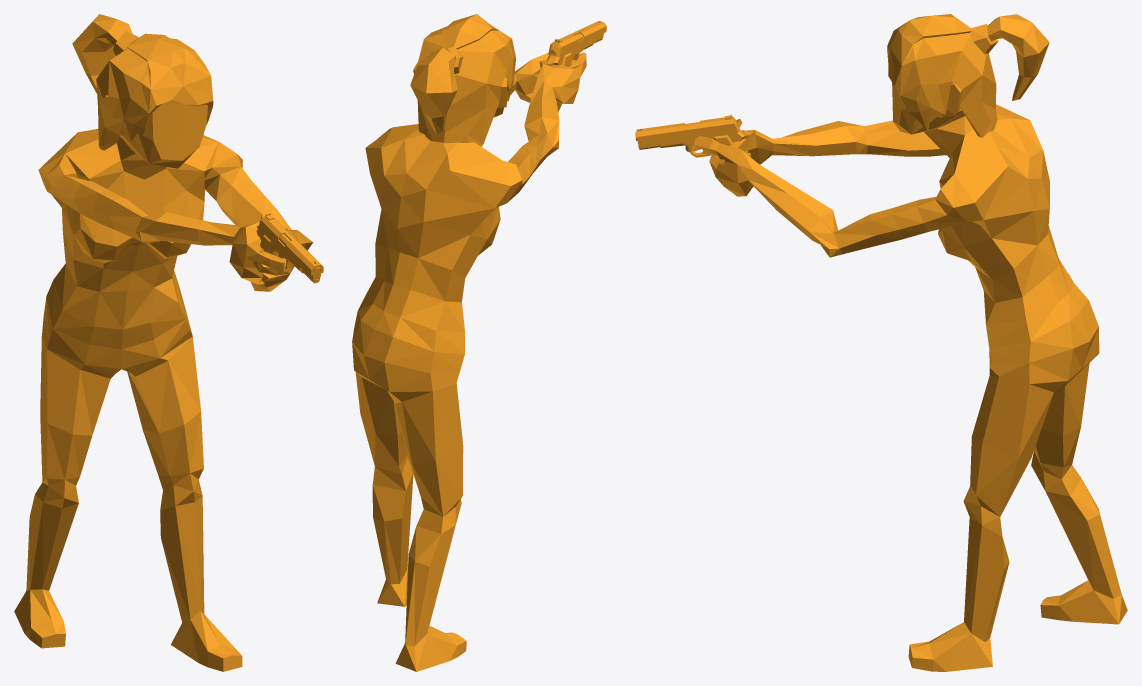
File: SM_Pawn_Weapon_Female_02.fbx
The picture shows the model from 3 angles, left to right: view 1: azimuth 30°, elevation 25°; view 2: azimuth 150°, elevation 25°; view 3: azimuth 270°, elevation 25°; orthographic projection. The views are drawn at different scales.
Parts seen in each view (by area): view 1: SM_Pawn_Weapon_Female_02; view 2: SM_Pawn_Weapon_Female_02; view 3: SM_Pawn_Weapon_Female_02.
Part boxes in pixels (<box>): SM_Pawn_Weapon_Female_02: <box>14,14,323,671</box>; SM_Pawn_Weapon_Female_02: <box>352,14,606,671</box>; SM_Pawn_Weapon_Female_02: <box>635,14,1127,671</box>.
Size of the model in its own units: 52.32 by 176 by 127.
